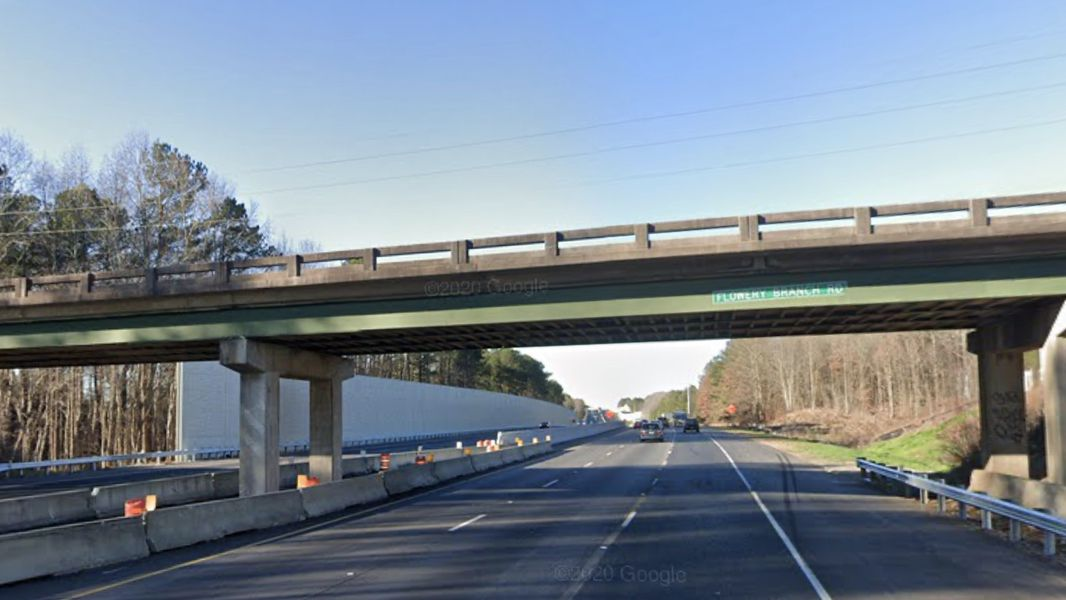bridge: (1, 193, 1063, 500)
